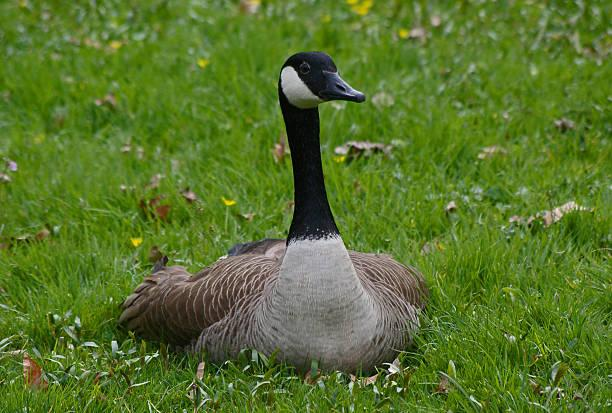Canadian-Goose: (123, 48, 435, 367)
